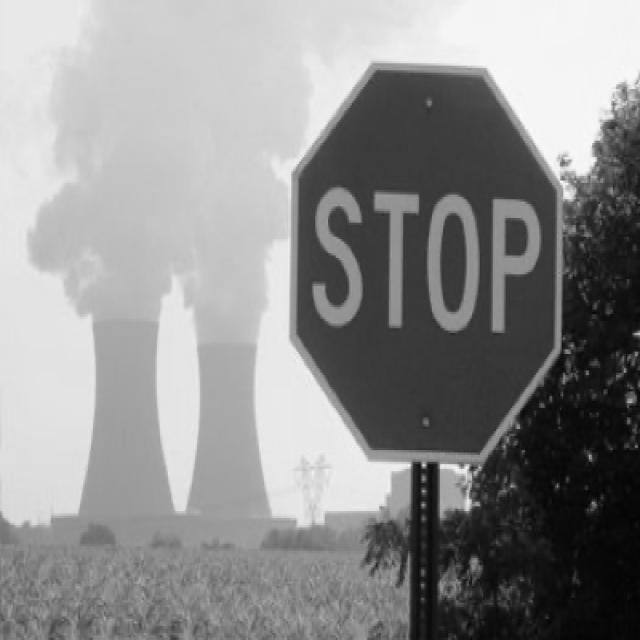Stop-signs: (289, 65, 562, 461)
